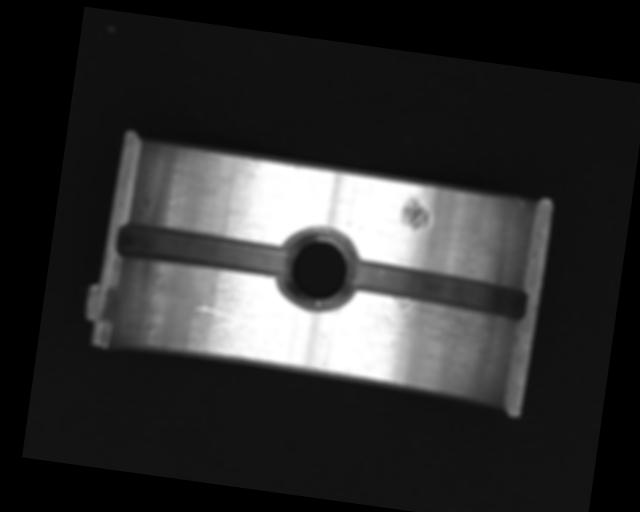bruise: (398, 194, 432, 233)
gap: (344, 256, 529, 323), (114, 221, 292, 283)
hole: (275, 223, 357, 315)
nick: (193, 304, 254, 323)
scratch: (339, 288, 510, 381)
